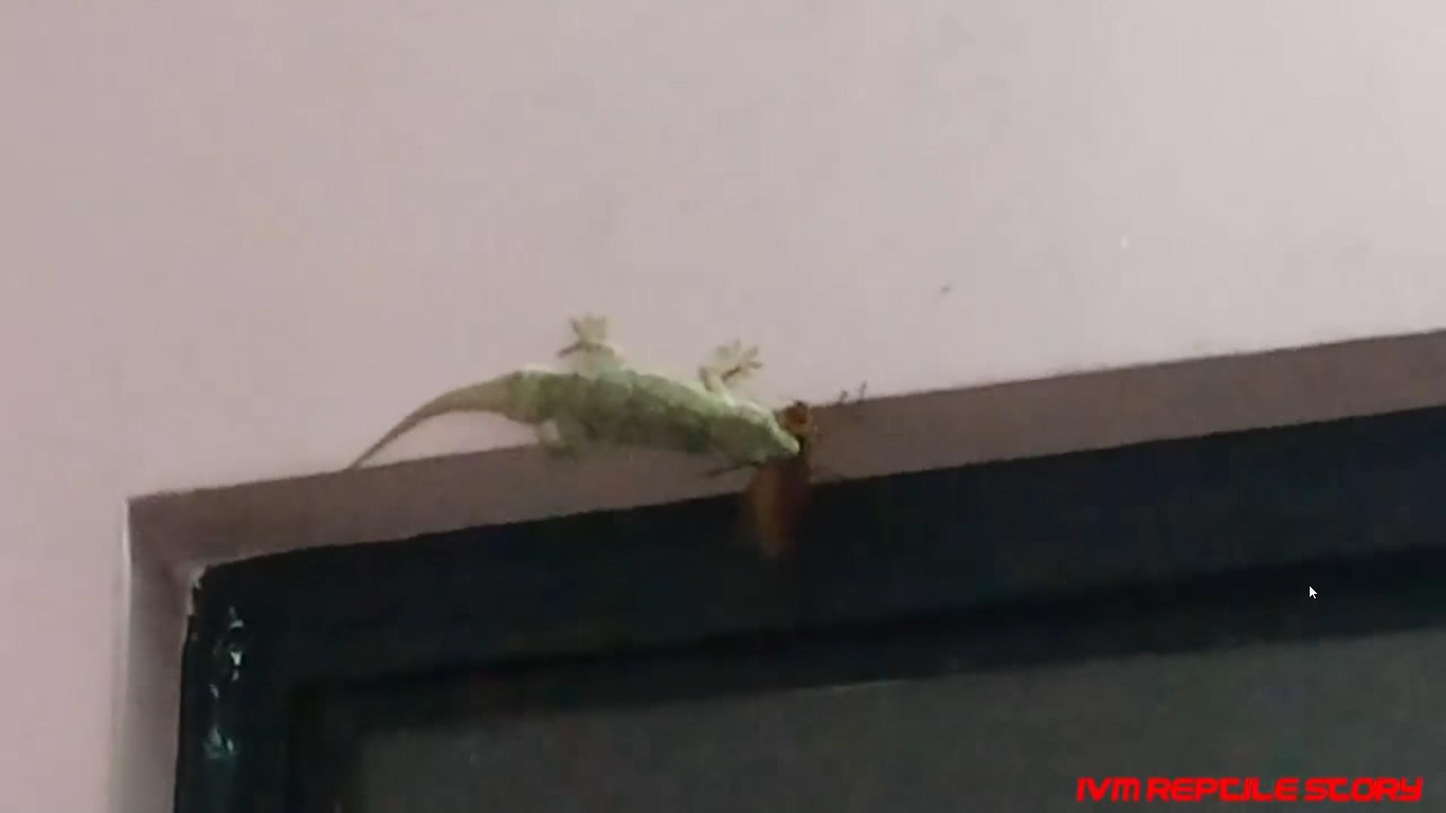cockroach: (764, 392, 809, 561)
lizard: (327, 304, 797, 492)
